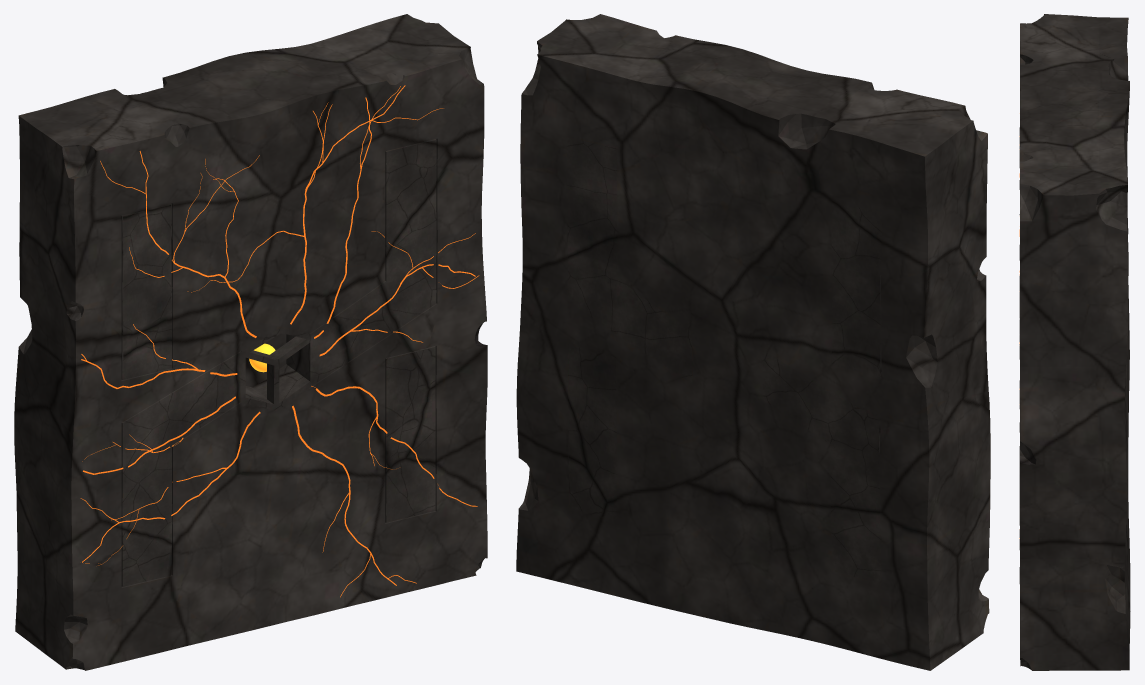
Rendered from hyperiux-forging-assets.glb.
3 views of the same model, side by side, from view 1: azimuth 30°, elevation 25°; view 2: azimuth 150°, elevation 25°; view 3: azimuth 270°, elevation 25° (orthographic). The views are drawn at different scales.
Parts seen in each view (by area): view 1: LogoCore_Path4_UpperRight, SlabChunk_019, LogoCore_Path3_LowerLeft, SlabChunk_010, SlabChunk_006, SlabChunk_018, SlabChunk_009, SlabChunk_004, SlabChunk_025, SlabChunk_007, LogoCore_Path1_TopLeft, LogoCore_Path2_BottomRight (+40 smaller); view 2: SlabChunk_018, SlabChunk_010, SlabChunk_009, LogoCore_Path4_UpperRight, SlabChunk_004, LogoCore_Path3_LowerLeft, SlabChunk_001, SlabChunk_024, SlabChunk_033, SlabChunk_002, SlabChunk_052, LogoCore_Path1_TopLeft (+32 smaller); view 3: SlabChunk_002, SlabChunk_022, SlabChunk_014, SlabChunk_003, SlabChunk_009, SlabChunk_016, SlabChunk_010, SlabChunk_017, SlabChunk_001, SlabChunk_006, SlabChunk_019, SlabChunk_011 (+4 smaller).
Boxes of the visible parts, x1=… form: LogoCore_Path4_UpperRight: x1=310, y1=139, x2=436, y2=386; SlabChunk_019: x1=213, y1=70, x2=348, y2=235; LogoCore_Path3_LowerLeft: x1=121, y1=352, x2=240, y2=586; SlabChunk_010: x1=257, y1=28, x2=429, y2=180; SlabChunk_006: x1=72, y1=95, x2=209, y2=217; SlabChunk_018: x1=14, y1=371, x2=108, y2=557; SlabChunk_009: x1=125, y1=51, x2=290, y2=184; SlabChunk_004: x1=15, y1=507, x2=112, y2=670; SlabChunk_025: x1=26, y1=301, x2=130, y2=437; SlabChunk_007: x1=33, y1=187, x2=134, y2=309; LogoCore_Path1_TopLeft: x1=121, y1=203, x2=171, y2=379; LogoCore_Path2_BottomRight: x1=385, y1=346, x2=435, y2=522; SlabChunk_018: x1=879, y1=392, x2=990, y2=547; SlabChunk_010: x1=579, y1=25, x2=723, y2=169; SlabChunk_009: x1=690, y1=59, x2=863, y2=173; LogoCore_Path4_UpperRight: x1=567, y1=137, x2=693, y2=384; SlabChunk_004: x1=873, y1=512, x2=989, y2=670; LogoCore_Path3_LowerLeft: x1=762, y1=350, x2=881, y2=583; SlabChunk_001: x1=819, y1=113, x2=986, y2=218; SlabChunk_024: x1=677, y1=502, x2=812, y2=630; SlabChunk_033: x1=728, y1=170, x2=831, y2=295; SlabChunk_002: x1=520, y1=14, x2=635, y2=168; SlabChunk_052: x1=617, y1=219, x2=741, y2=320; LogoCore_Path1_TopLeft: x1=831, y1=201, x2=881, y2=377; SlabChunk_002: x1=1020, y1=164, x2=1128, y2=303; SlabChunk_022: x1=1019, y1=380, x2=1126, y2=491; SlabChunk_014: x1=1019, y1=475, x2=1127, y2=591; SlabChunk_003: x1=1020, y1=582, x2=1129, y2=670; SlabChunk_009: x1=1020, y1=59, x2=1129, y2=147; SlabChunk_016: x1=1020, y1=293, x2=1089, y2=389; SlabChunk_010: x1=1020, y1=116, x2=1125, y2=169; SlabChunk_017: x1=1076, y1=300, x2=1128, y2=394; SlabChunk_001: x1=1037, y1=14, x2=1128, y2=71; SlabChunk_006: x1=1019, y1=20, x2=1112, y2=129; SlabChunk_019: x1=1019, y1=111, x2=1126, y2=167; SlabChunk_011: x1=1020, y1=279, x2=1090, y2=304.
Size of the model in its own units: 10.05 by 12.05 by 2.53.
8 materials, 2 textured.
